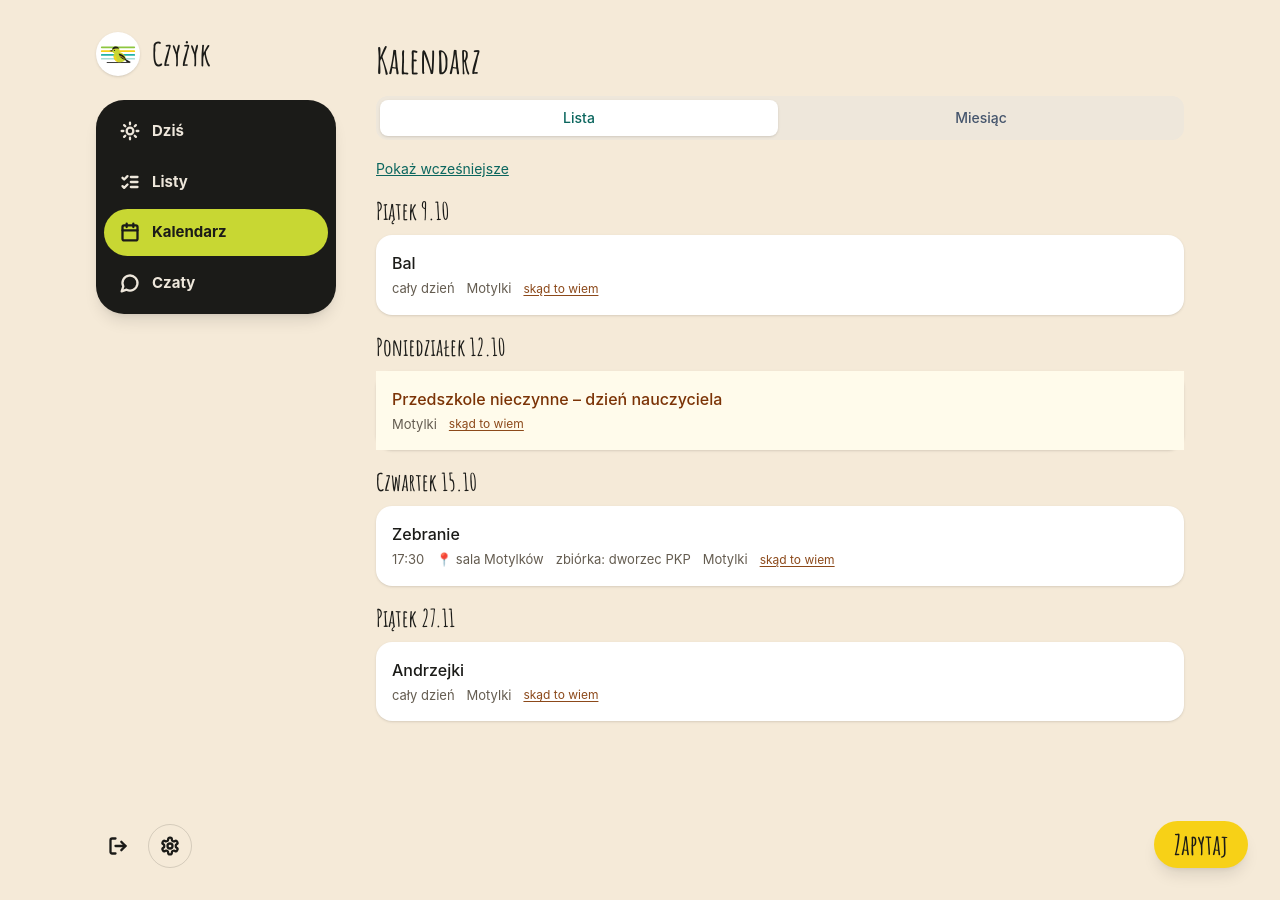
Test case: Kalendarz – miesiąc › nie oznacza dnia z odwołanym wydarzeniem
This screenshot has width=1280, height=900.
Click the tab "Miesiąc" at (981, 118), box [782,100,1180,136]
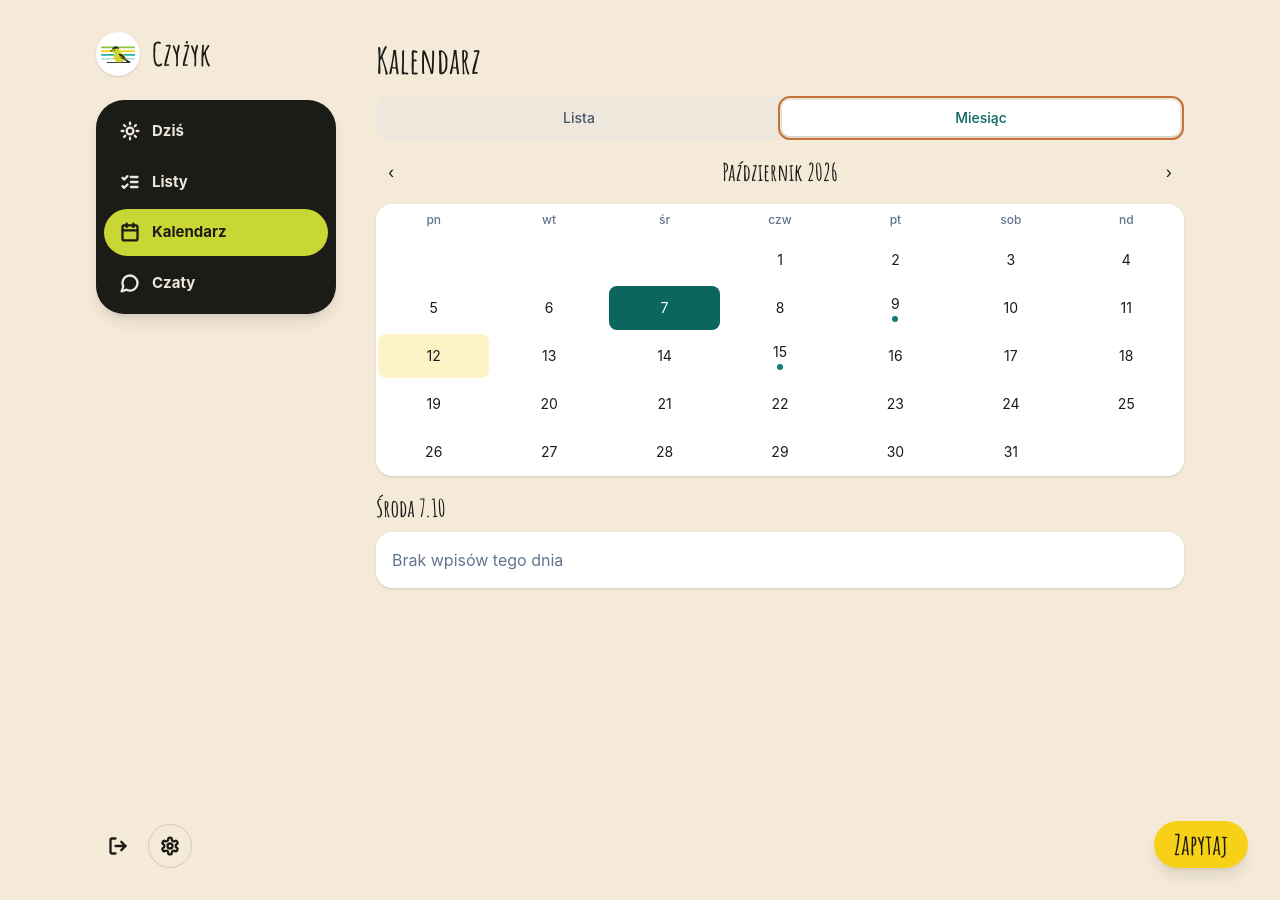
Now the button named "Piątek 9.10, 1 wpisy" is shown, box [840,286,951,330]
Now the button named "Środa 14.10" is shown, box [609,334,720,378]
